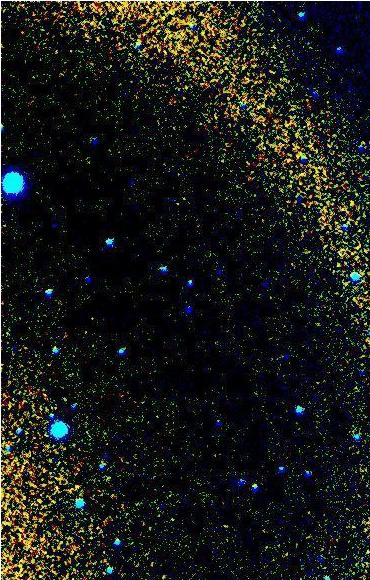star: (337, 187, 367, 217)
